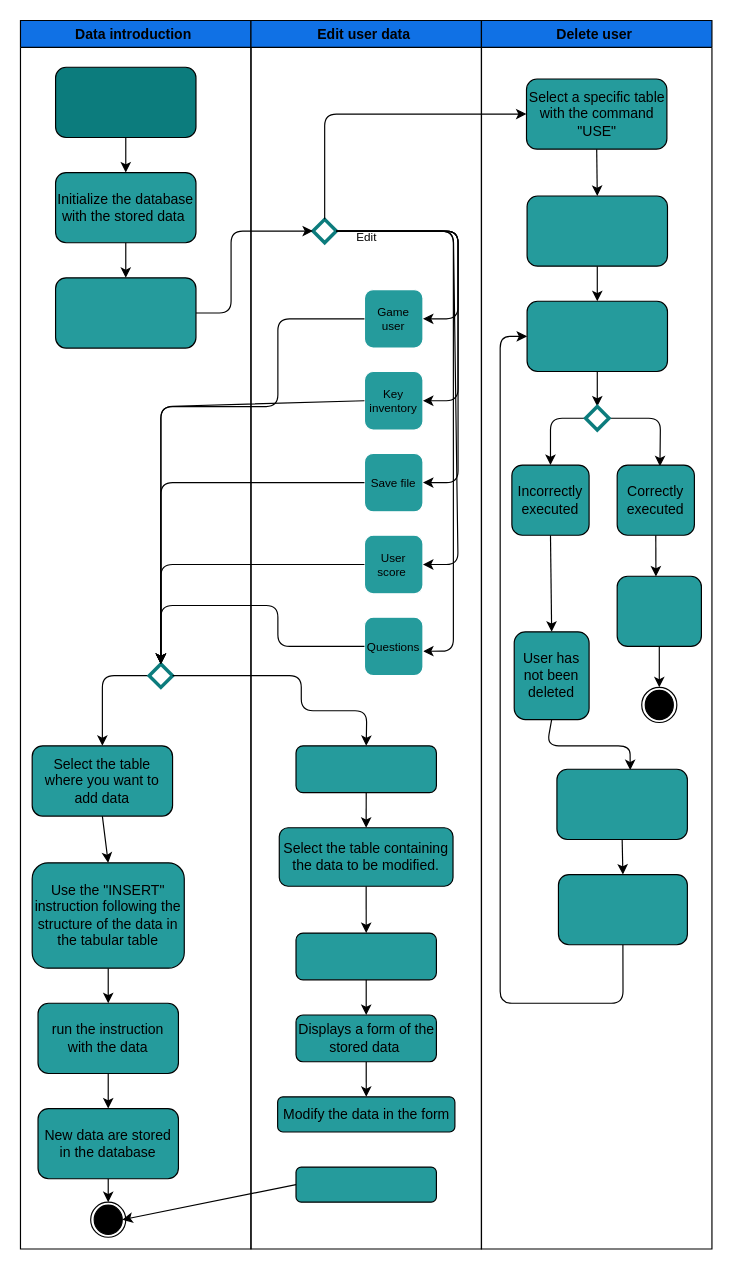
The diagram is 732 pixels wide and 1269 high, and some of its shapes have lost their labels. The centre of each missing label's shape, as x and y in pixels:
Access as administrator to the data base: pixel 125 101
Check that the command matches an existing record: pixel 621 803
edit existing data: pixel 365 769
Identify the user to be deleted: pixel 596 230
Rerun the operation with the corrected command: pixel 622 909
Run the program: pixel 125 312
Send new information: pixel 365 1184
The "UPDATE" statement is used: pixel 365 956
The user has been deleted: pixel 658 610
use "DELETE FROM table WHERE condition".: pixel 596 335
